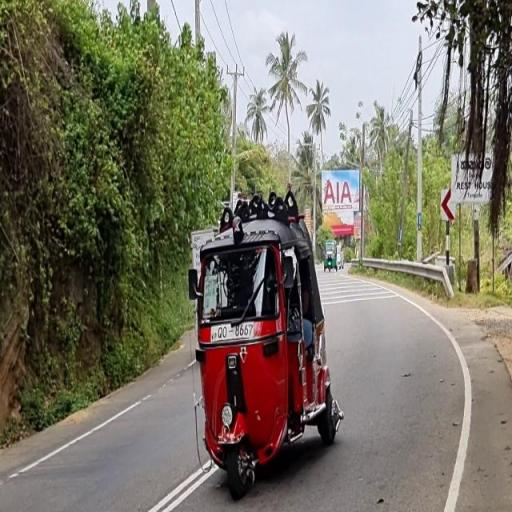double_white_line: (149, 462, 216, 510)
